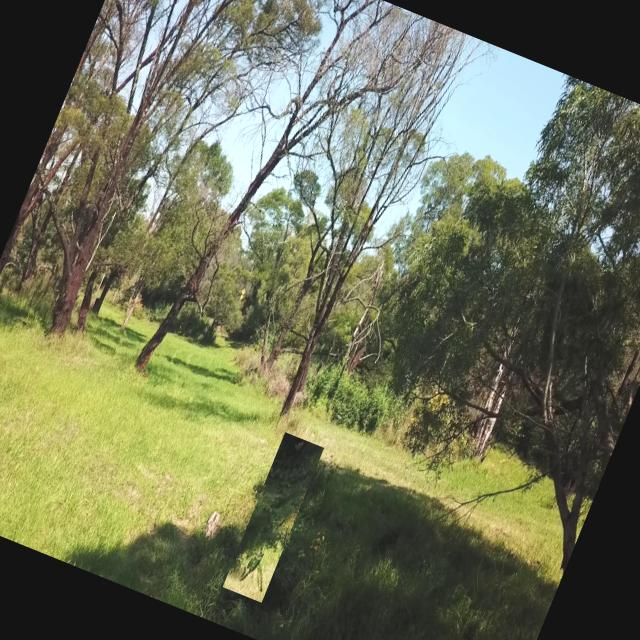Mysore-Thorn-Weed: (222, 432, 324, 602)
